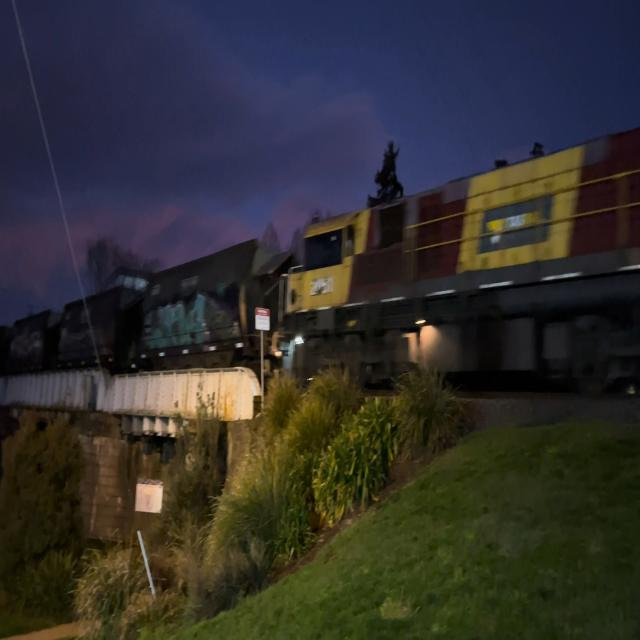locomotive: (279, 108, 640, 404)
